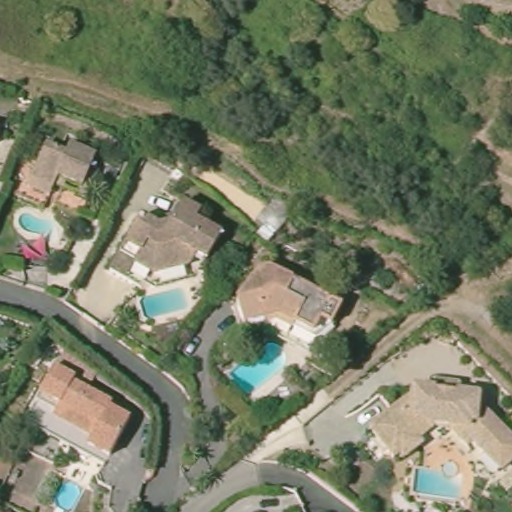pool: (215, 334, 291, 396), (405, 457, 468, 504), (13, 208, 63, 247), (137, 286, 191, 318), (50, 477, 89, 507)
